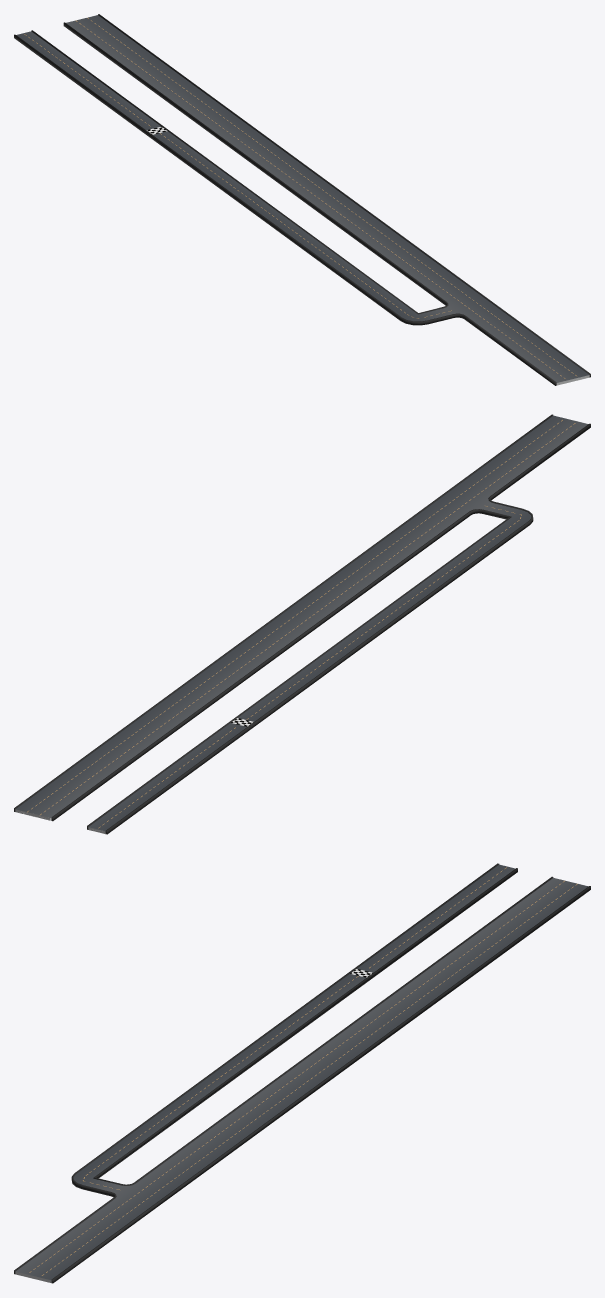
The model's file is Level1Finaly.fbx.
The picture shows the model from 3 angles, top to bottom: view 1: azimuth 30°, elevation 25°; view 2: azimuth 150°, elevation 25°; view 3: azimuth 330°, elevation 25°; orthographic projection. The views are drawn at different scales.
Parts seen in each view (by area): view 1: Plane.005; view 2: Plane.005; view 3: Plane.005.
Boxes of the visible parts, <box> form: Plane.005: <box>14,14,590,385</box>; Plane.005: <box>14,414,590,834</box>; Plane.005: <box>14,863,590,1283</box>.
Size of the model in its own units: 1603 by 59.39 by 16018.
